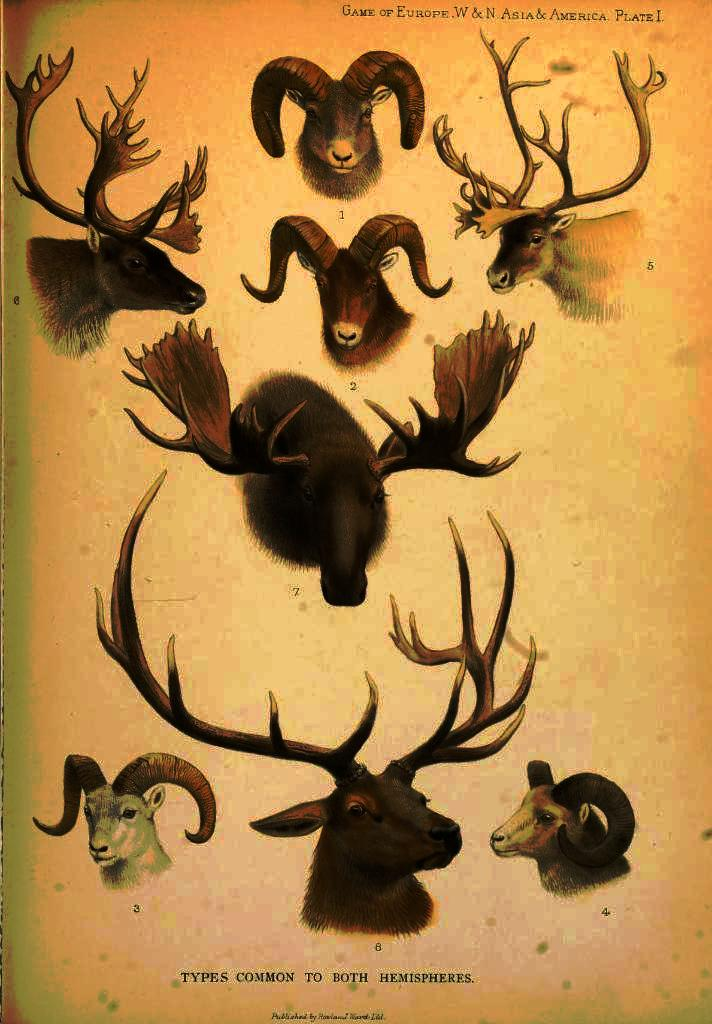Sheep: (242, 212, 451, 364), (246, 46, 426, 204), (31, 754, 219, 888), (490, 756, 635, 896)
